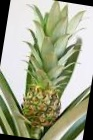Pineapple: (20, 7, 83, 131)
